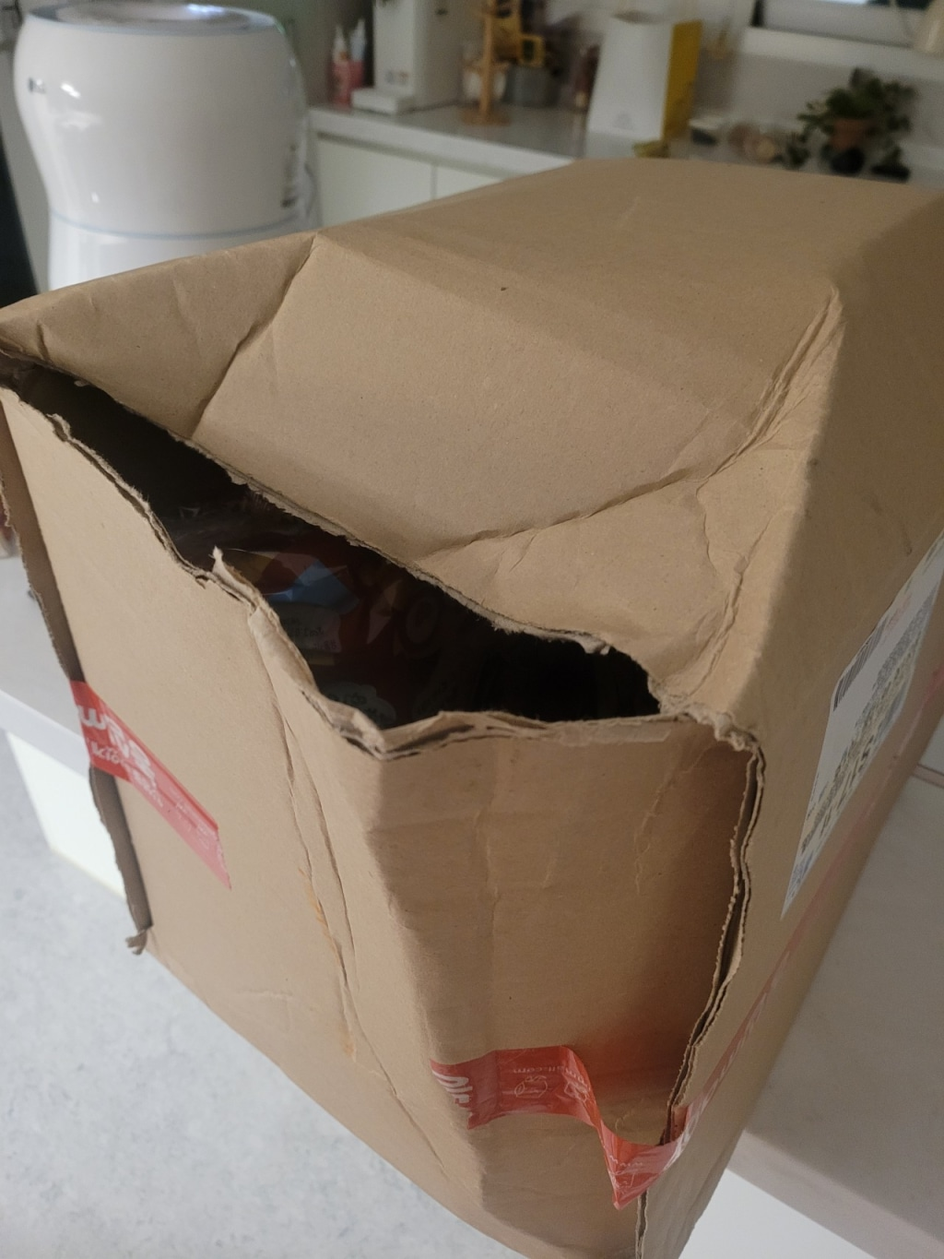damaged package: (0, 323, 717, 778)
